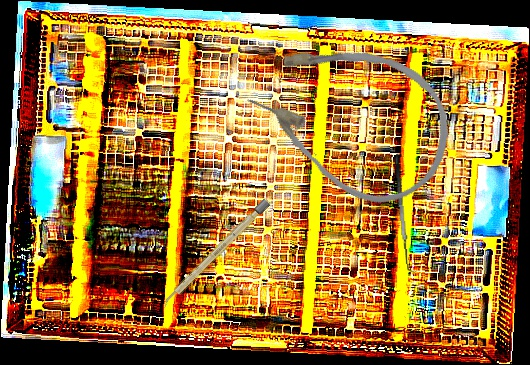Cannula: (230, 8, 473, 225)
Scalpel Handle: (159, 197, 272, 310)
Spatula Surgical: (393, 153, 418, 274)
